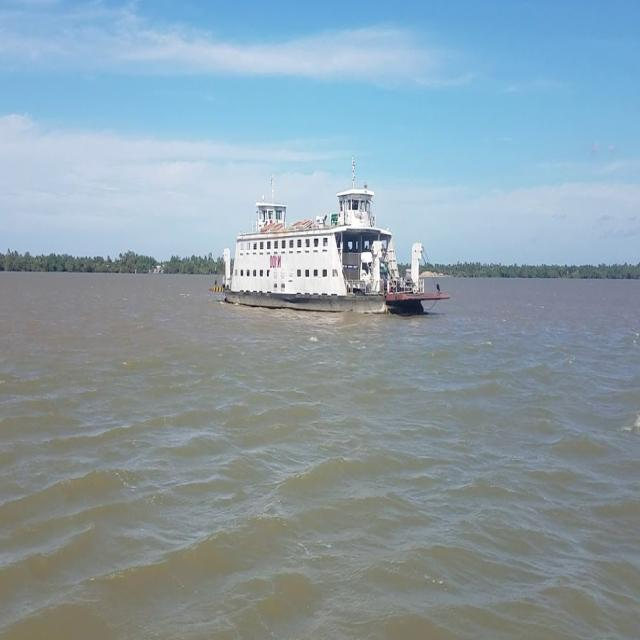passenger ship: (207, 185, 448, 314)
